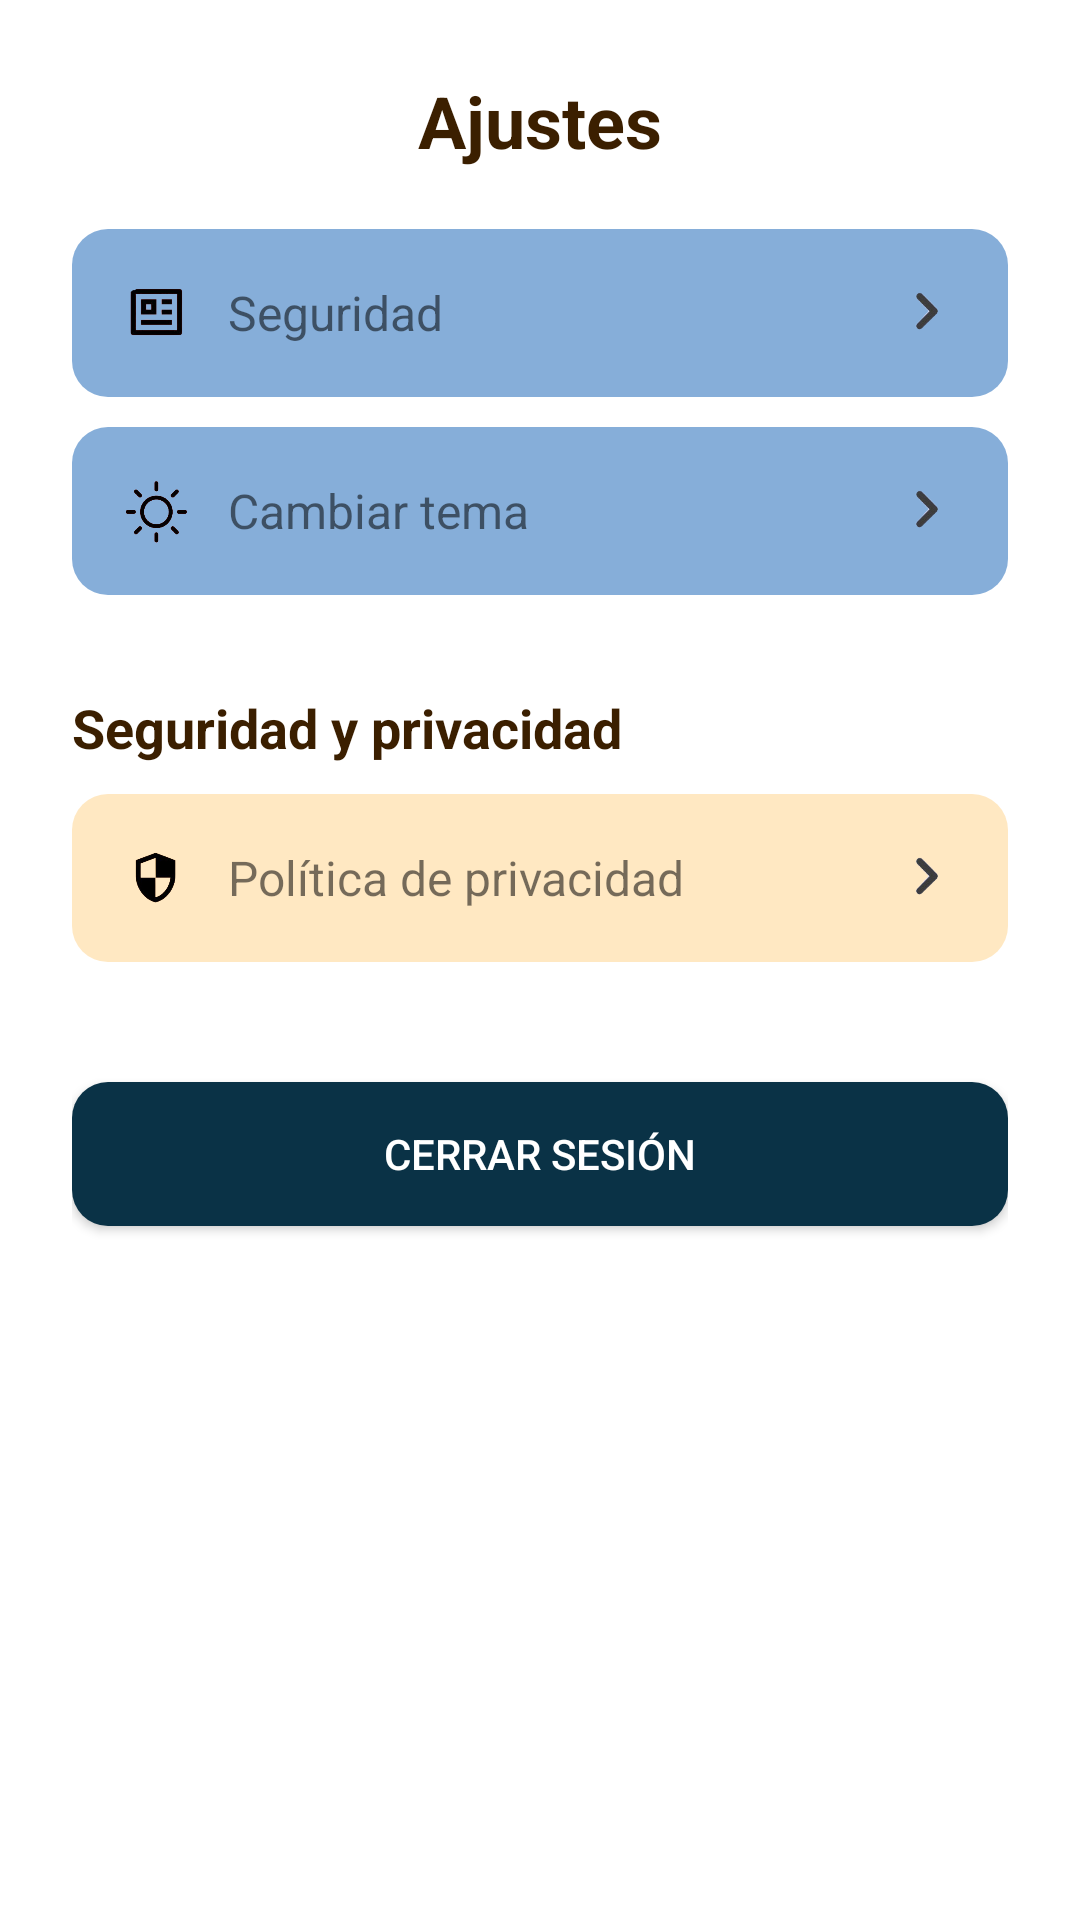

Locate icon controls on the screen. Image size 1080px×1920px, boxes as (x1, y1, x2, y2).
flecha: (916, 293, 938, 330), (916, 491, 938, 528), (916, 858, 938, 895)
politica: (135, 853, 176, 903)
sol: (126, 481, 187, 543)
